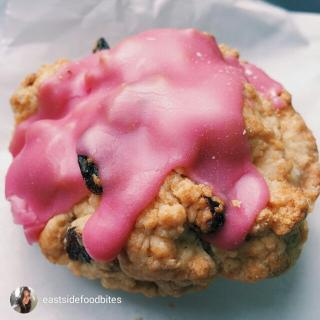Cookie: (4, 29, 320, 300)
